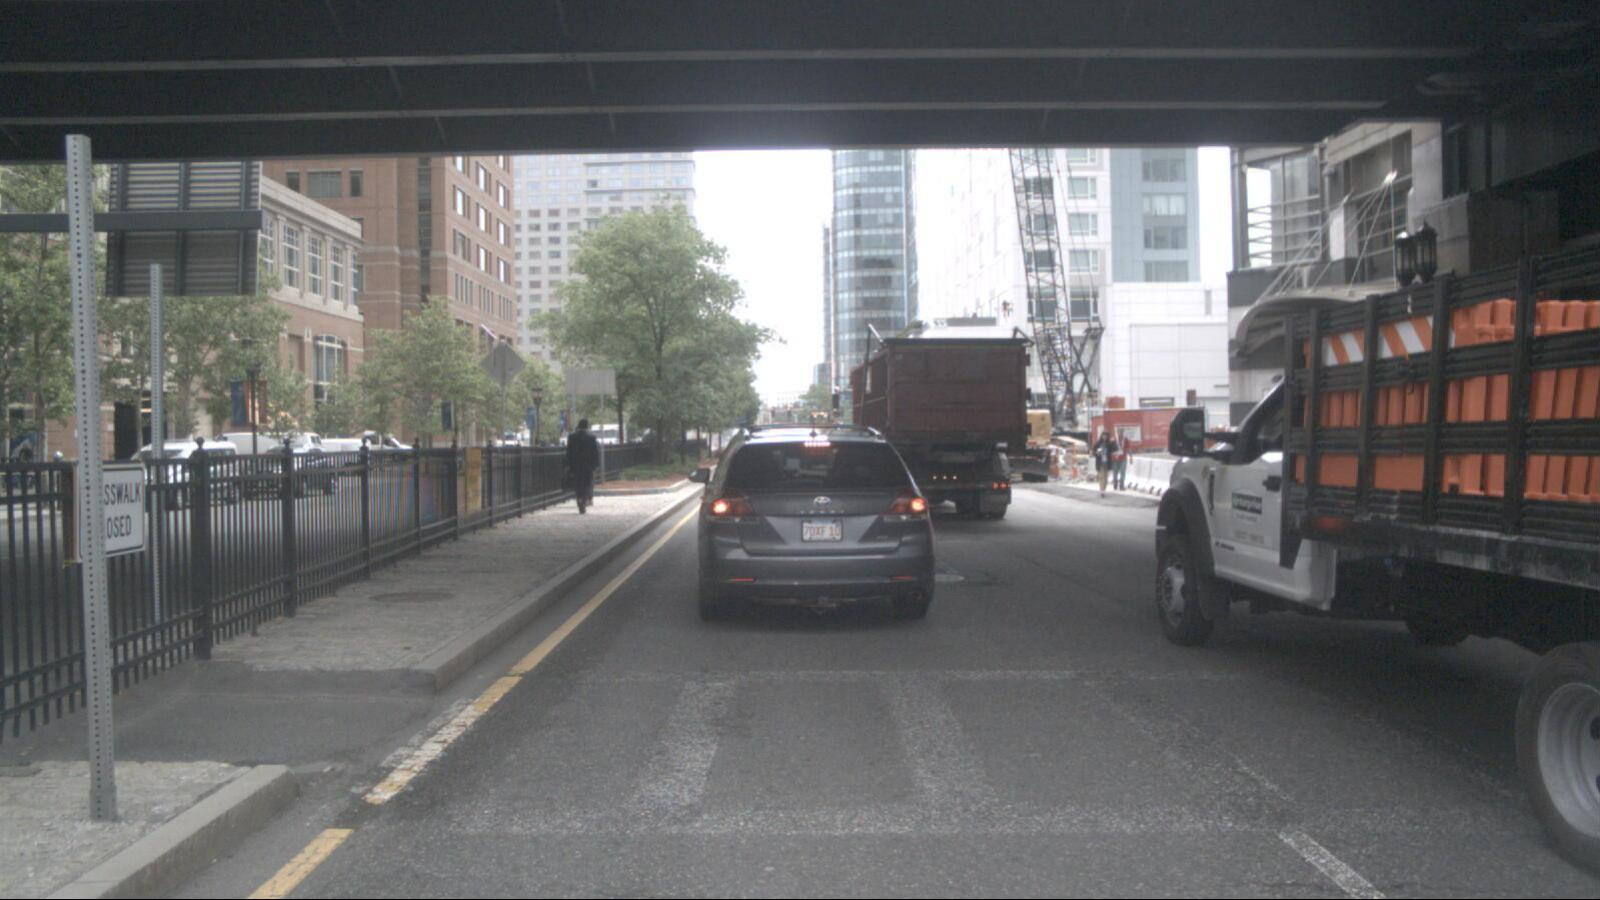human.pedestrian.adult-pedestrian.moving: (564, 418, 600, 514), (1110, 430, 1133, 492), (1092, 432, 1113, 499)
